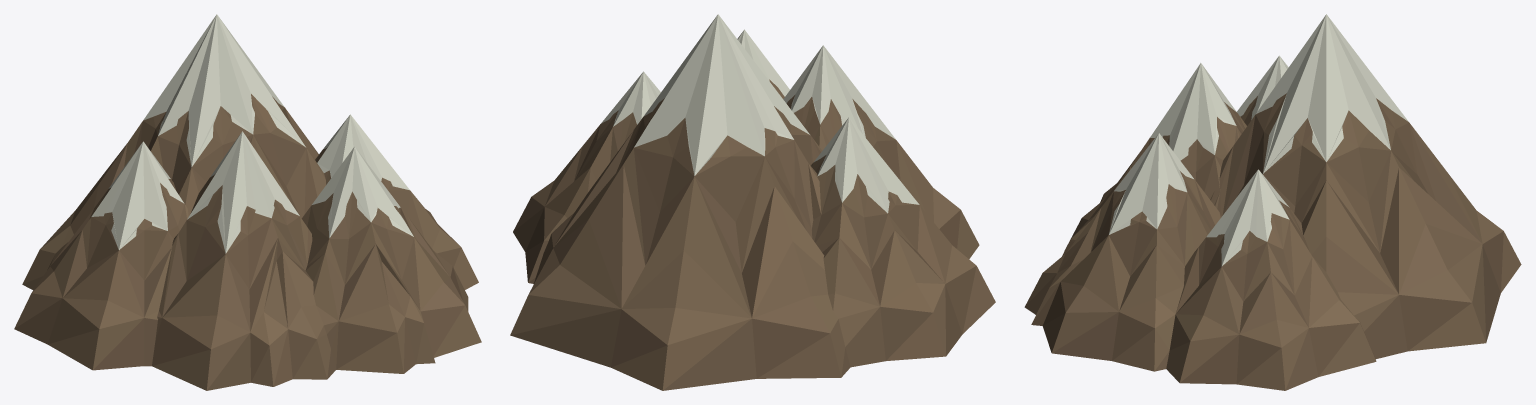
The model's file is alpine_massif.glb.
3 renders of one model, left to right at view 1: azimuth 30°, elevation 25°; view 2: azimuth 150°, elevation 25°; view 3: azimuth 270°, elevation 25°, orthographic. The views are drawn at different scales.
Parts seen in each view (by area): view 1: alpine_massif; view 2: alpine_massif; view 3: alpine_massif.
Boxes of the visible parts, x1,y1,x2,y2 form: alpine_massif: [14, 14, 481, 390]; alpine_massif: [510, 14, 995, 390]; alpine_massif: [1024, 14, 1521, 390].
Bounding box in the file's own units: 1.88 × 1.15 × 1.9.
